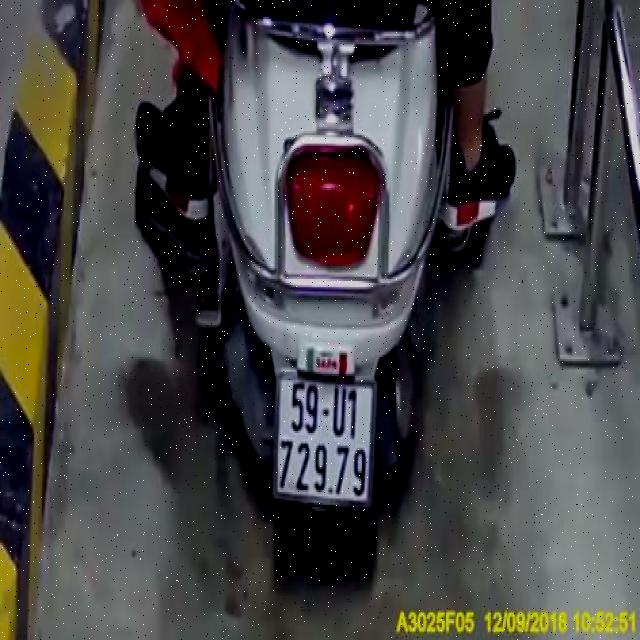1: (345, 390, 359, 440)
2: (296, 443, 312, 493)
5: (289, 382, 306, 433)
7: (279, 439, 293, 488), (336, 447, 350, 494)
9: (305, 384, 320, 433), (315, 441, 328, 496), (354, 446, 367, 499)
U: (331, 387, 347, 439)
